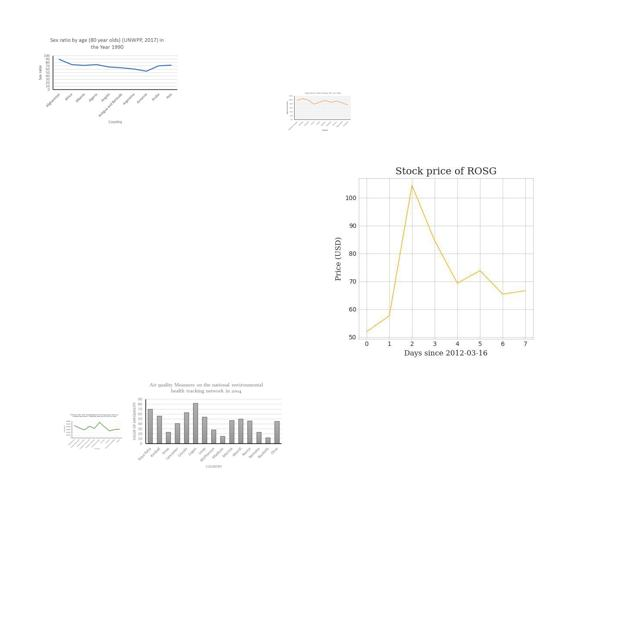Graph: (303, 153, 582, 362), (129, 380, 285, 471), (34, 35, 180, 126), (285, 91, 352, 131), (63, 413, 123, 450)
